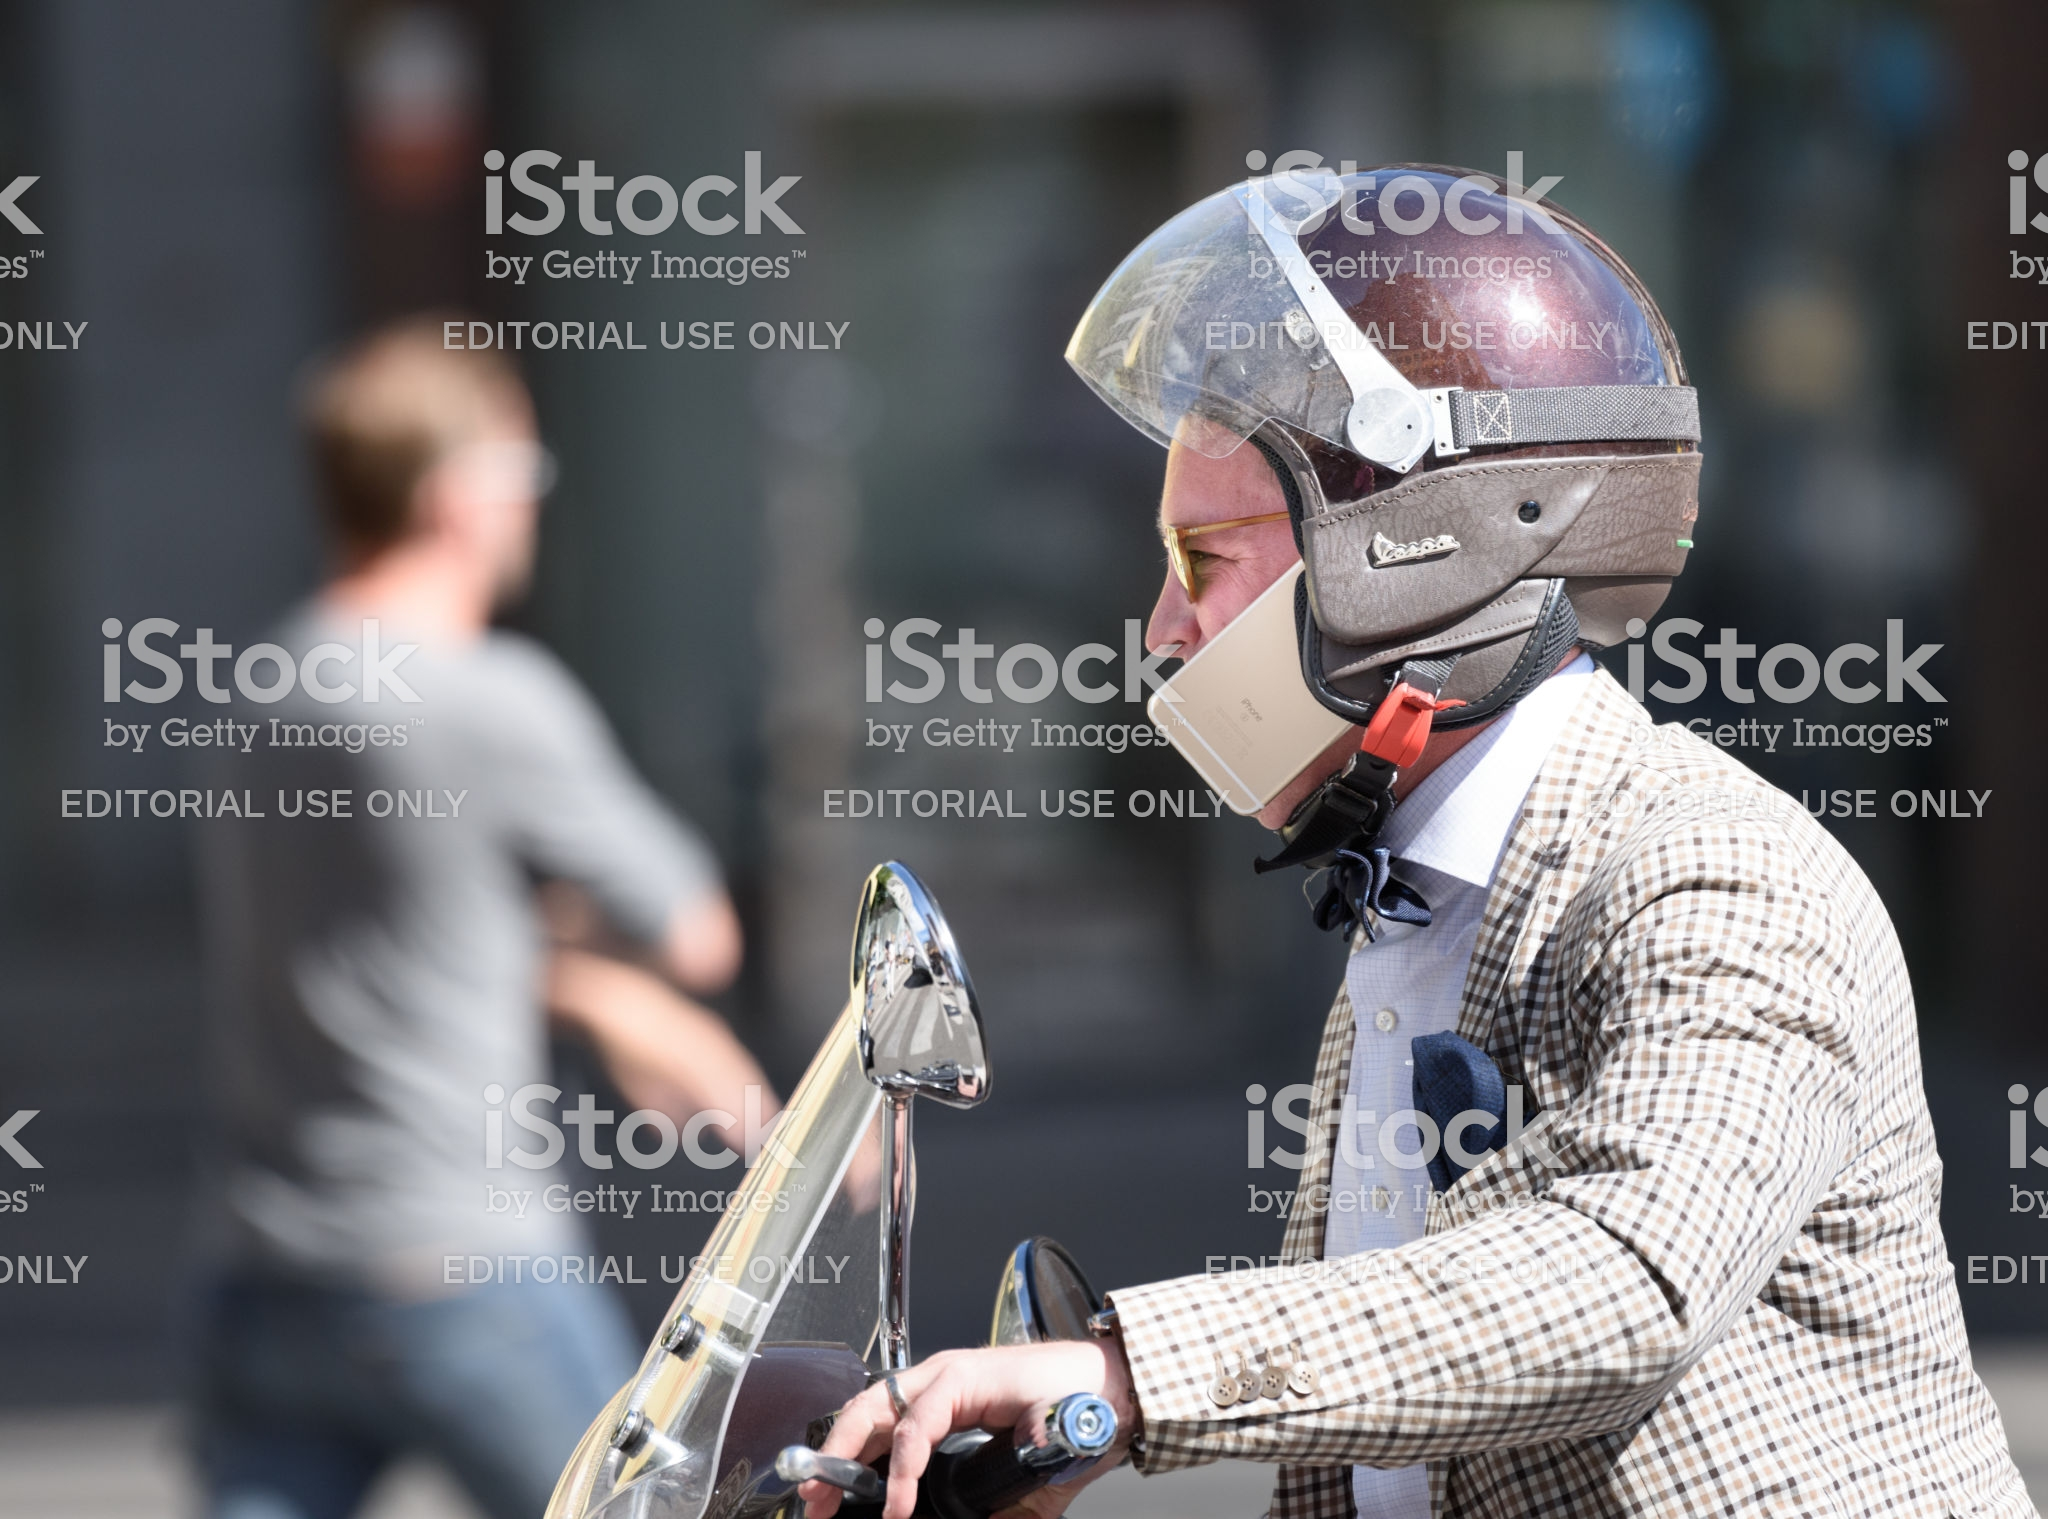helmet: (1142, 209, 1711, 683)
